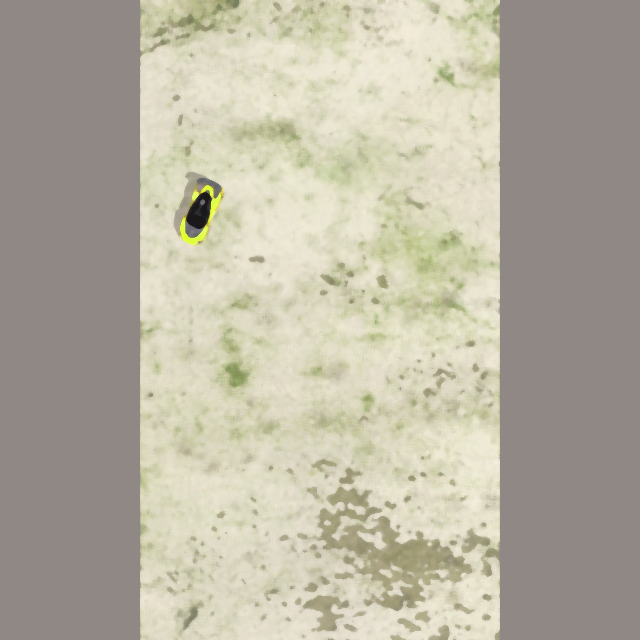car: (171, 174, 227, 250)
